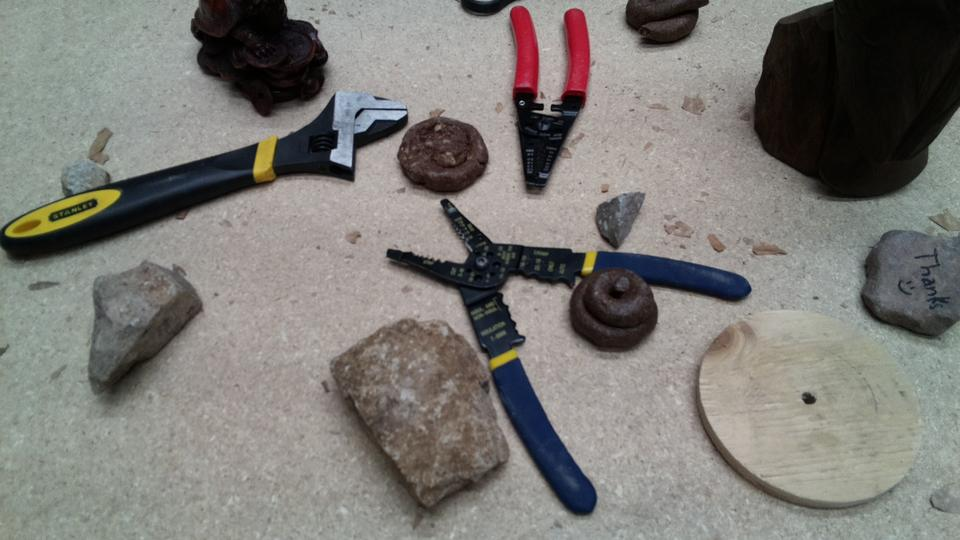poop: (393, 112, 491, 195), (567, 267, 661, 353), (624, 1, 711, 47)
